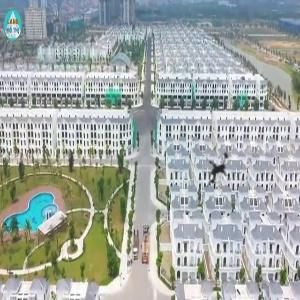drone: (181, 135, 252, 206)
